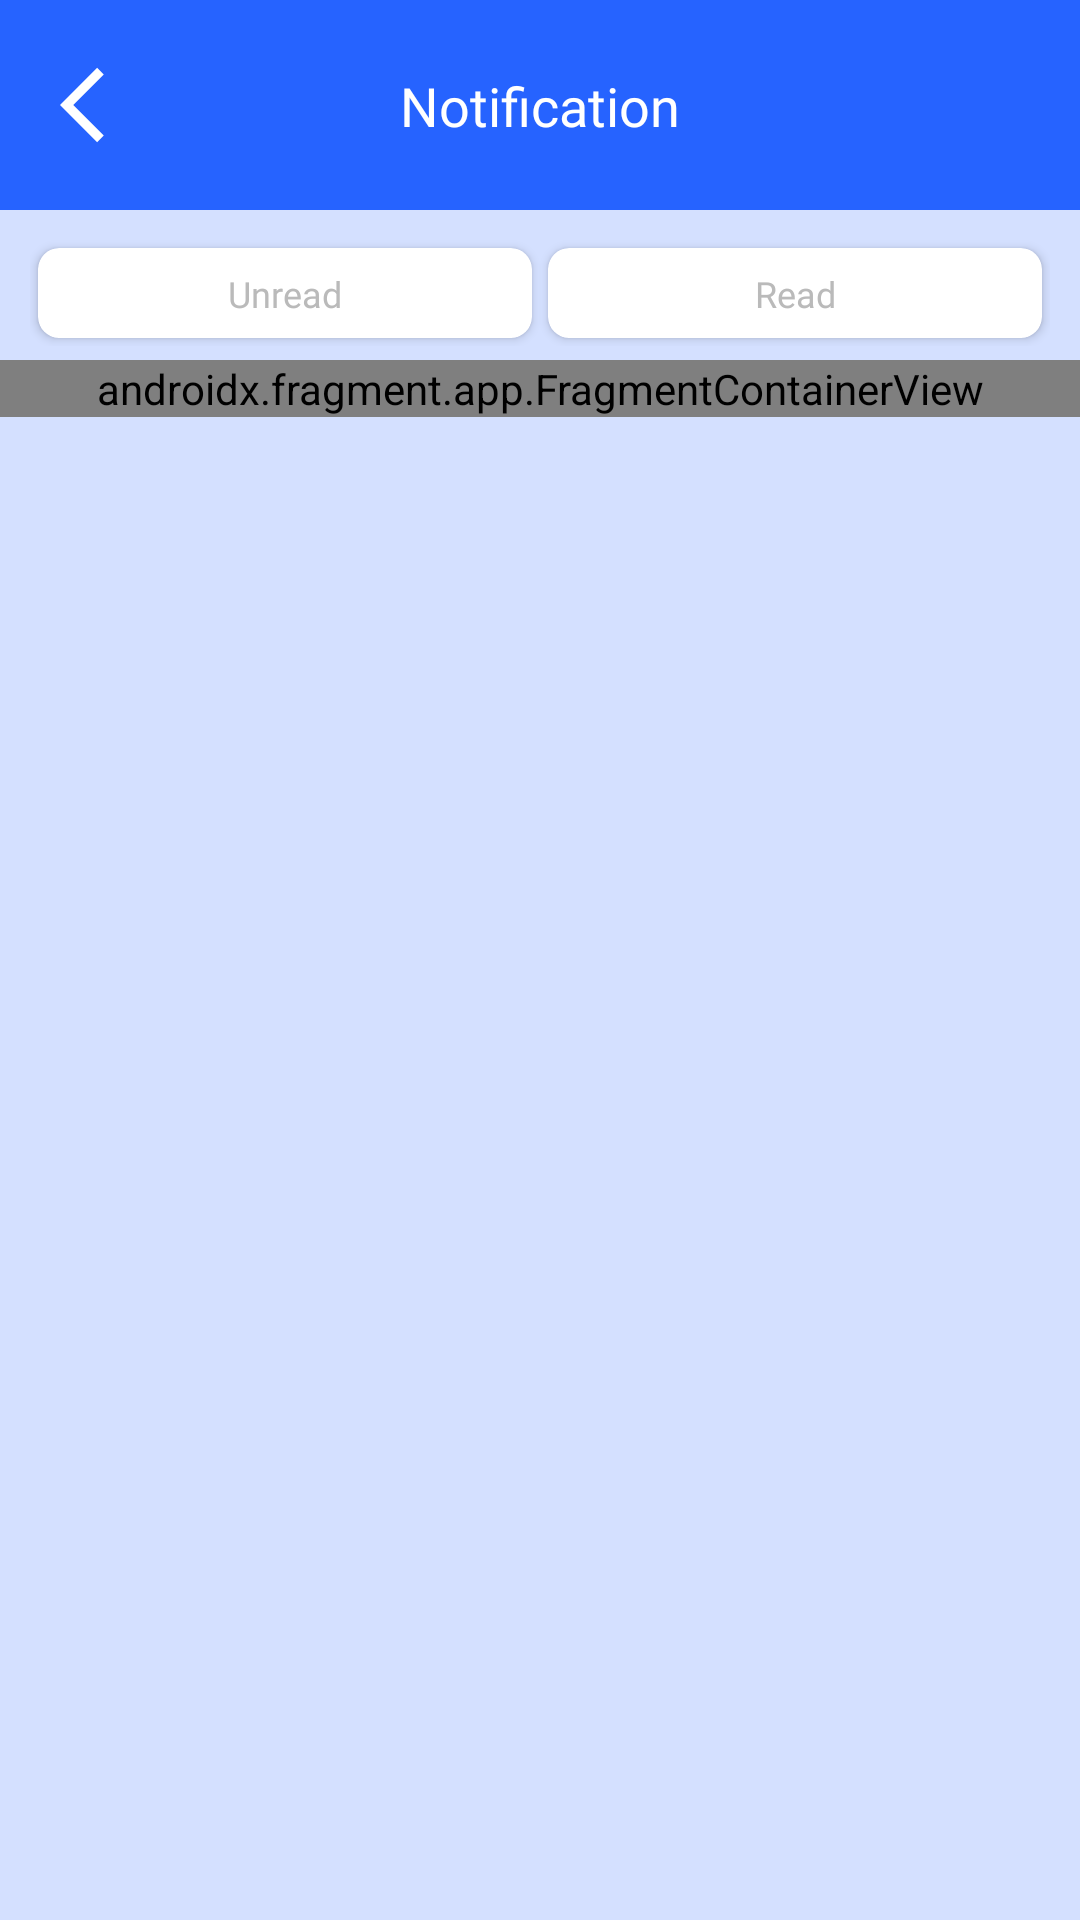

Screen size 1080w x 1920h. Icon name, then its center in pixels as (x=x, y=y):
arrow back: (x=82, y=105)
